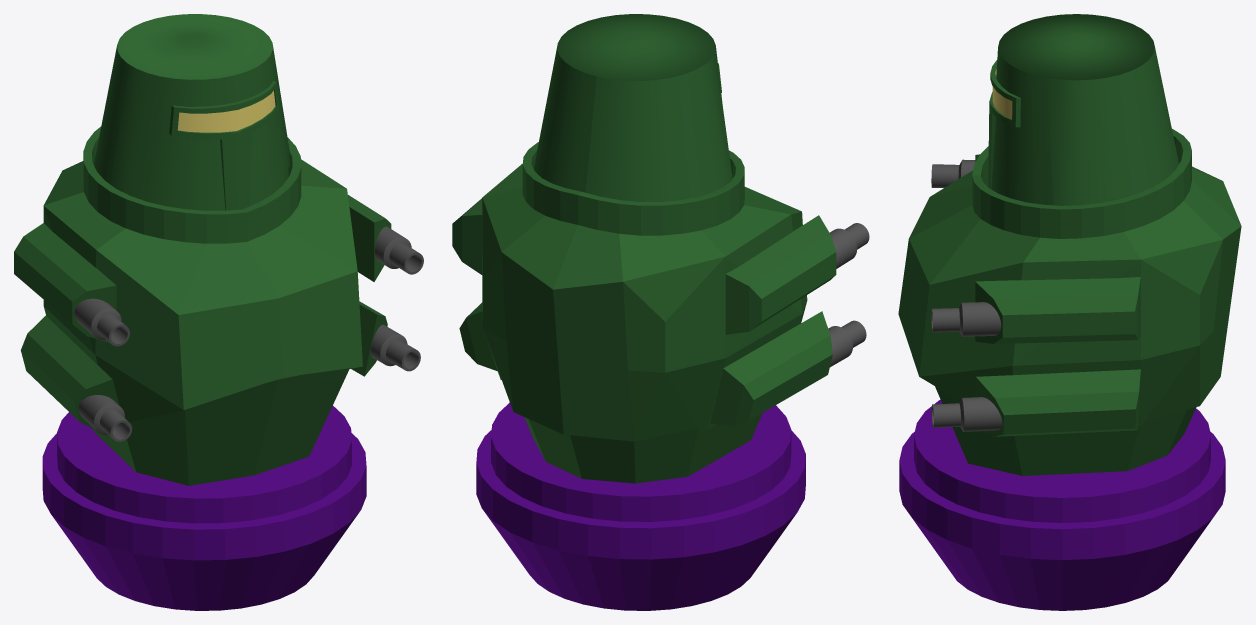
The model's file is soldier.glb.
3 renders of one model, left to right at view 1: azimuth 30°, elevation 25°; view 2: azimuth 150°, elevation 25°; view 3: azimuth 270°, elevation 25°, orthographic.
Visible parts, largest first — view 1: Cylinder.004; view 2: Cylinder.004; view 3: Cylinder.004.
Part boxes in pixels (x1,y1,x2,y2): Cylinder.004: [14, 14, 423, 610]; Cylinder.004: [452, 14, 869, 610]; Cylinder.004: [898, 14, 1241, 610].
Bounding box in the file's own units: 5.71 × 8.82 × 5.27.
